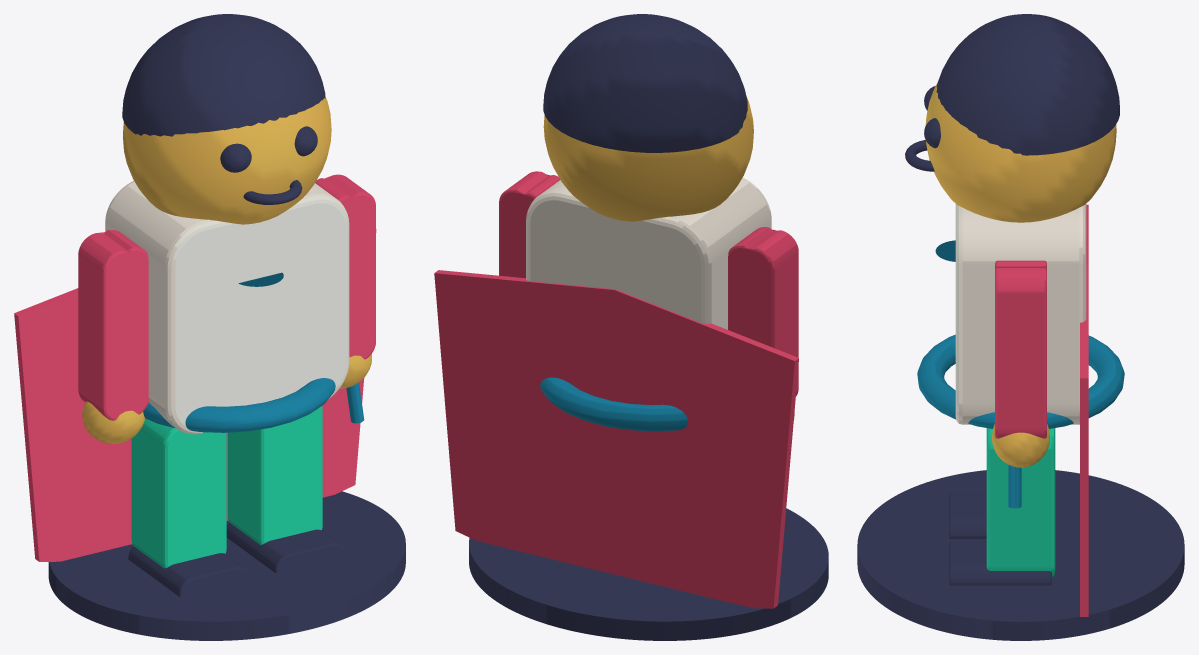
File: 1338_中国古代寓言_蒲松龄.glb
3 views of the same model, side by side, from view 1: azimuth 30°, elevation 25°; view 2: azimuth 150°, elevation 25°; view 3: azimuth 270°, elevation 25° (orthographic).
Visible parts, largest first — view 1: card_1338; view 2: card_1338; view 3: card_1338.
Boxes of the visible parts, box(x1,y1,x2,y2) form: card_1338: box(14, 14, 405, 640); card_1338: box(434, 14, 828, 640); card_1338: box(857, 14, 1184, 640).
Bounding box in the file's own units: 0.6739 × 1 × 0.5372.
